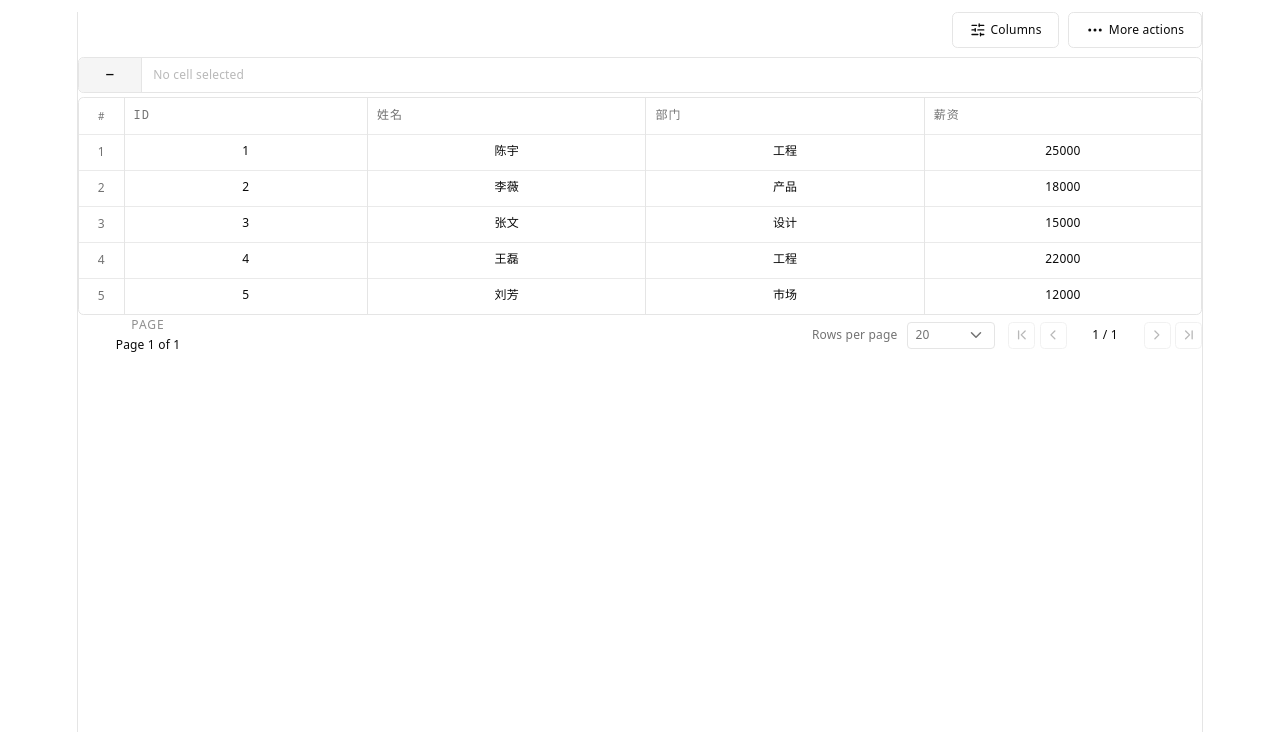
Scenario: DataGrid — spreadsheet mode › clicking a cell activates it (aria-selected)
The image size is (1280, 732).
What coordinates should you click on to do the following:
click the button "陈宇"
I would click on:
 (507, 151)
Its box is top-left (494, 142), bottom-right (519, 159).
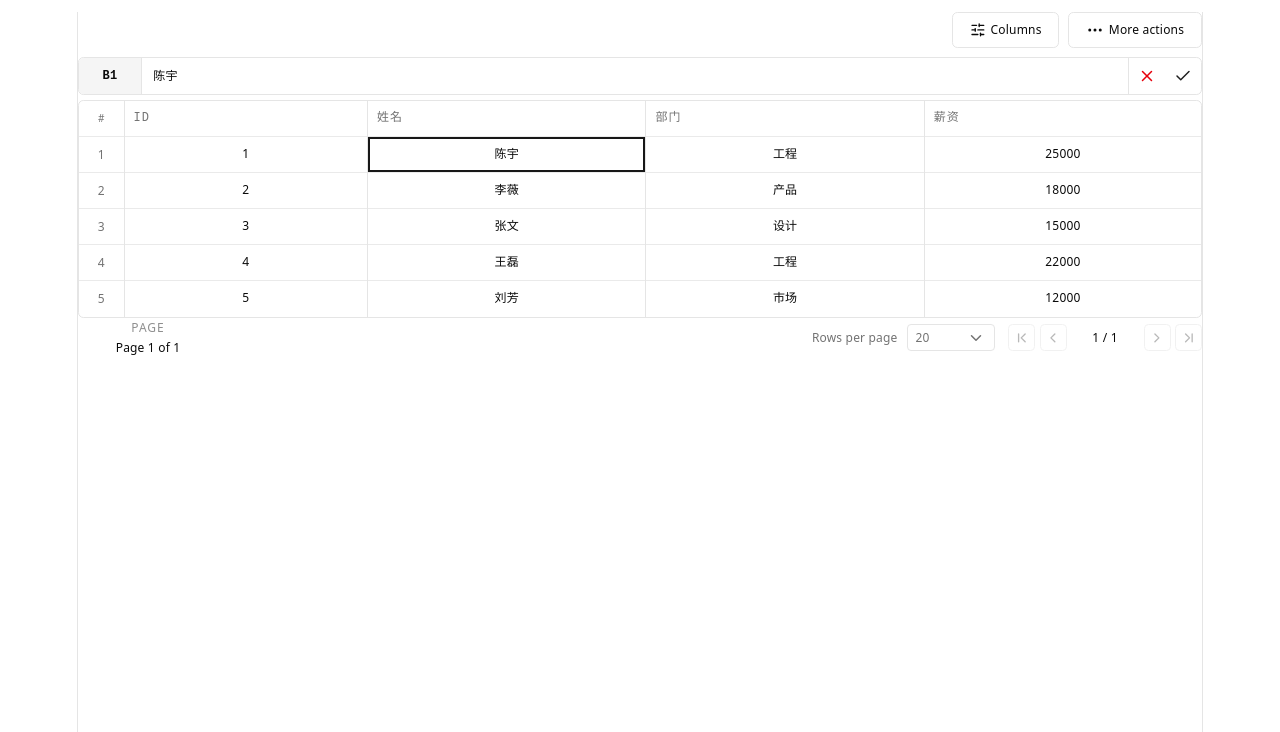
Expected: the field named "Formula bar" holds "陈宇", top-left (142, 59), bottom-right (1128, 93)
